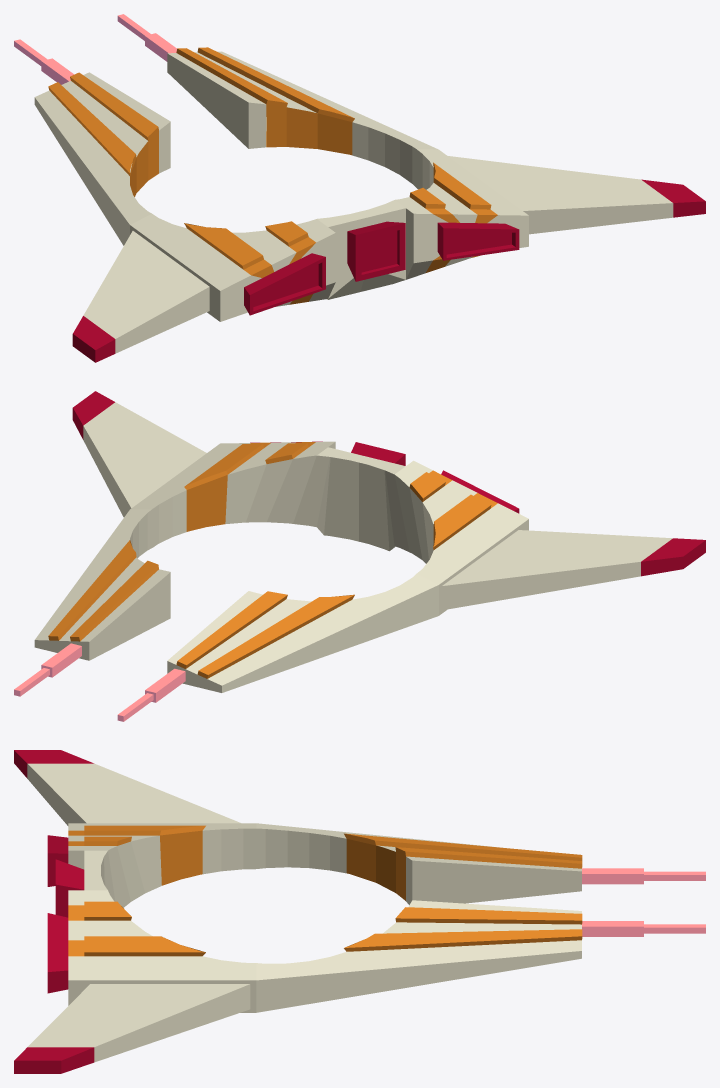
The picture shows the model from 3 angles, top to bottom: view 1: azimuth 30°, elevation 25°; view 2: azimuth 150°, elevation 25°; view 3: azimuth 270°, elevation 25°; orthographic projection. The views are drawn at different scales.
Parts seen in each view (by area): view 1: Cube; view 2: Cube; view 3: Cube.
Boxes of the visible parts, left/top/right/bottom form: Cube: left=14, top=14, right=705, bottom=362; Cube: left=14, top=391, right=705, bottom=721; Cube: left=14, top=750, right=705, bottom=1073.
Bounding box in the file's own units: 158 × 19.61 × 149.
